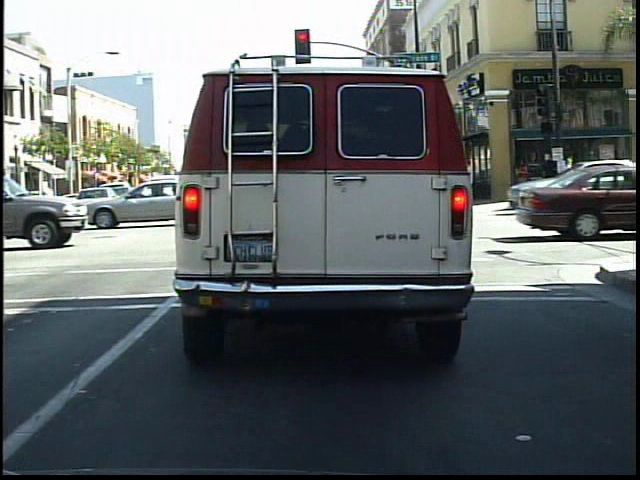person: (539, 151, 562, 205), (511, 156, 533, 202)
